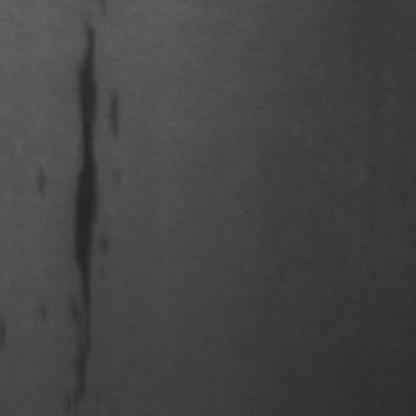inclusion: (56, 10, 119, 383), (52, 285, 94, 412)
